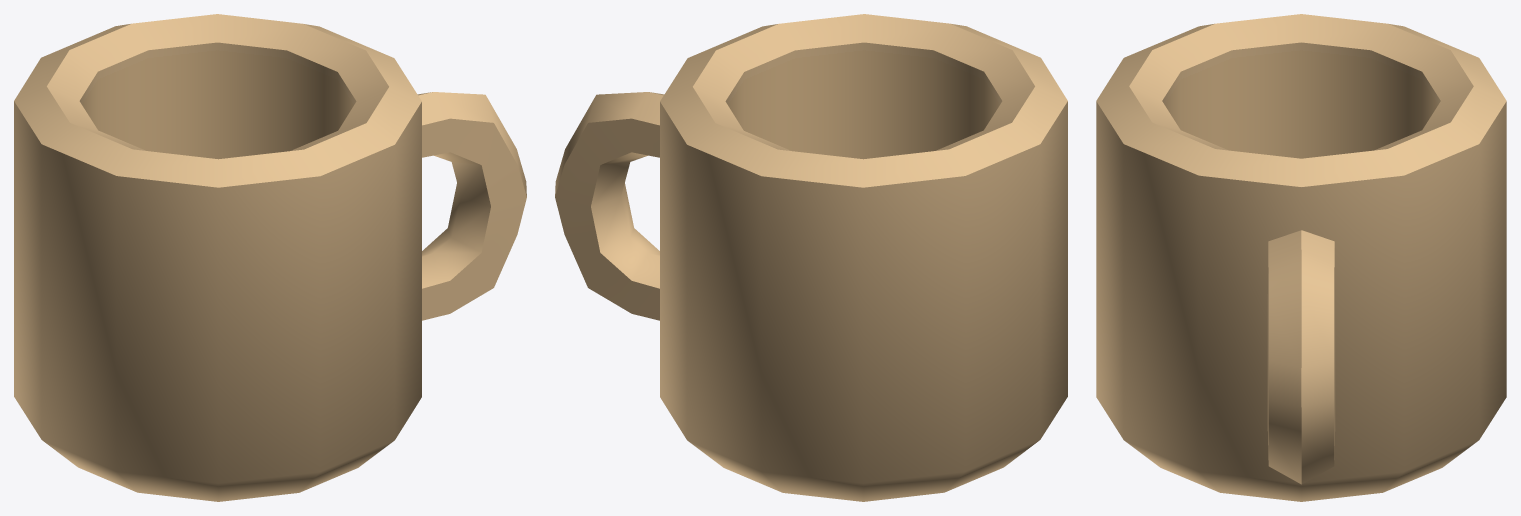
Rendered from kitchen-mug.glb.
3 views of the same model, side by side, from view 1: azimuth 30°, elevation 25°; view 2: azimuth 150°, elevation 25°; view 3: azimuth 270°, elevation 25° (orthographic).
Visible parts, largest first — view 1: mug_red; view 2: mug_red; view 3: mug_red.
Boxes of the visible parts, x1,y1,x2,y2 form: mug_red: [14, 14, 526, 501]; mug_red: [555, 14, 1067, 501]; mug_red: [1096, 14, 1506, 501].
Bounding box in the file's own units: 0.5119 × 0.35 × 0.375.
1 material, 1 textured.
